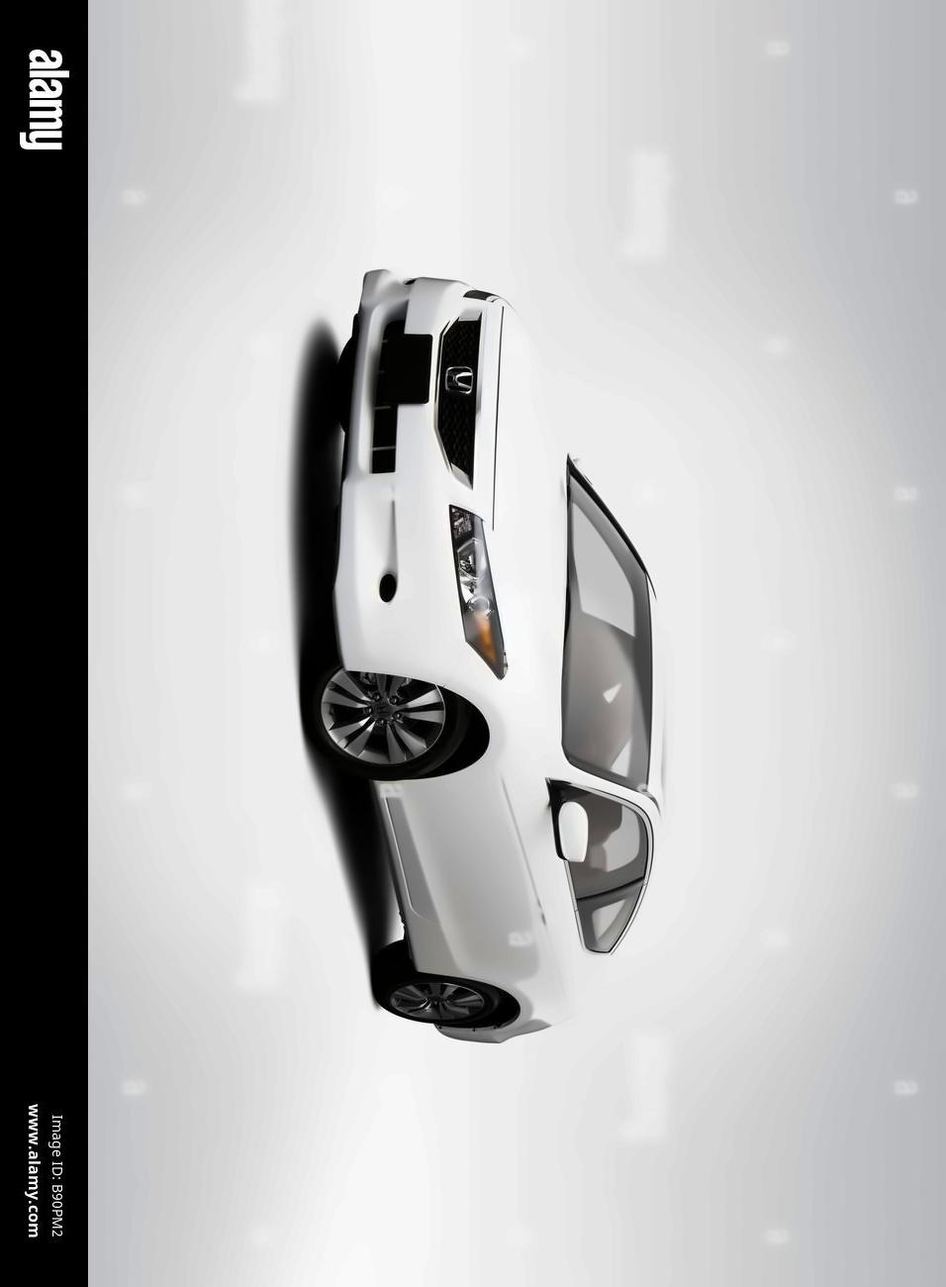Car hood: (484, 290, 580, 782)
Fender - -F-L-: (341, 662, 585, 814)
Front bumper: (327, 244, 494, 698)
Headlight - -L-: (447, 507, 506, 682)
Passenger-s door - -F-L-: (352, 764, 694, 928)
Passenger-s door - -R-L-: (372, 865, 705, 988)
Side bumper - -L-: (329, 755, 467, 1004)
Side mirror - -L-: (542, 790, 608, 875)
